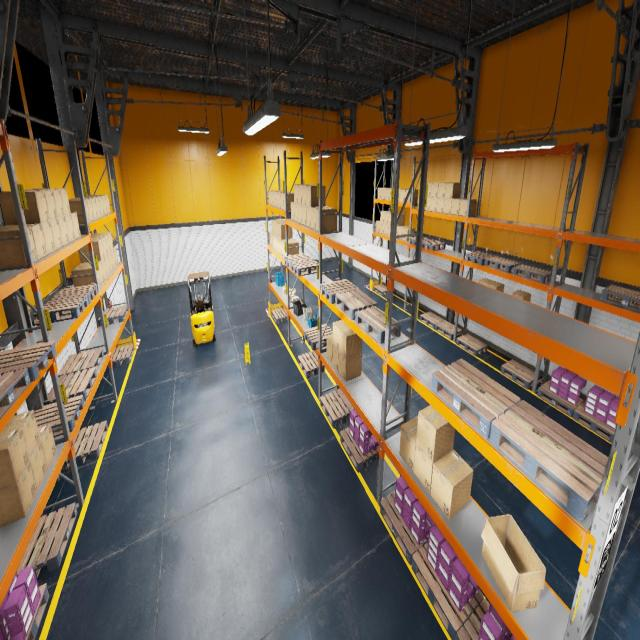box: (481, 514, 546, 612), (430, 449, 473, 520), (0, 461, 37, 527), (416, 406, 455, 462), (1, 410, 40, 460), (414, 443, 452, 494), (0, 428, 29, 489), (0, 223, 47, 260), (0, 190, 49, 225), (0, 226, 37, 268), (24, 189, 64, 218), (399, 415, 418, 472), (24, 190, 58, 220), (36, 188, 71, 216), (30, 442, 47, 492), (38, 424, 56, 470), (339, 327, 362, 359), (338, 351, 362, 381), (71, 265, 100, 287), (77, 261, 104, 284), (71, 198, 98, 220), (79, 239, 104, 262), (68, 199, 94, 221), (69, 200, 90, 224), (316, 208, 337, 232), (77, 197, 101, 217), (333, 320, 348, 351), (41, 221, 55, 254), (92, 232, 114, 252), (311, 206, 329, 230), (84, 196, 105, 216), (306, 185, 325, 207), (87, 195, 108, 214), (50, 218, 62, 250), (90, 194, 110, 213), (92, 234, 110, 254), (91, 237, 108, 257), (58, 216, 69, 246), (459, 199, 477, 216), (302, 185, 316, 206), (451, 198, 468, 215), (65, 214, 75, 242), (298, 184, 312, 204), (445, 182, 461, 198), (71, 212, 80, 239), (284, 240, 299, 256), (511, 290, 531, 302), (281, 239, 295, 256), (278, 223, 292, 239), (280, 192, 293, 209), (278, 192, 291, 208), (275, 191, 288, 207), (283, 192, 294, 210), (332, 344, 339, 372), (294, 184, 304, 203), (402, 227, 415, 241), (271, 219, 283, 234), (486, 281, 504, 291), (405, 189, 418, 202), (271, 190, 281, 206), (274, 220, 284, 236), (397, 226, 409, 239), (101, 258, 108, 280), (427, 182, 438, 196), (273, 191, 283, 206), (276, 222, 285, 238), (443, 198, 452, 214), (327, 335, 332, 363), (269, 190, 279, 204), (377, 187, 388, 199), (380, 210, 390, 223), (436, 197, 444, 213), (438, 182, 446, 198), (477, 278, 494, 285), (430, 196, 437, 212), (306, 206, 311, 228), (389, 213, 399, 224), (397, 213, 405, 226), (398, 188, 406, 201), (105, 255, 110, 275), (108, 252, 113, 272), (400, 188, 407, 202), (431, 182, 438, 196), (113, 247, 118, 266), (111, 250, 116, 268), (302, 205, 306, 226), (298, 204, 302, 224), (424, 197, 430, 210), (294, 203, 298, 222), (384, 212, 390, 224), (386, 188, 391, 200), (289, 288, 296, 296), (381, 188, 386, 199), (291, 202, 294, 220), (276, 236, 279, 252), (384, 223, 388, 235), (380, 222, 384, 234), (376, 220, 380, 232), (292, 296, 298, 302), (283, 287, 289, 293), (279, 238, 281, 254), (274, 234, 276, 250), (272, 234, 274, 248), (270, 232, 272, 246), (290, 294, 294, 300), (417, 196, 419, 208), (388, 225, 390, 235), (390, 188, 391, 200), (397, 226, 398, 235)
forklift: (188, 271, 215, 347)
pallets: (489, 400, 608, 522), (431, 358, 520, 438), (412, 542, 484, 640), (16, 502, 77, 578), (380, 490, 428, 564), (61, 420, 108, 472), (0, 341, 57, 382), (34, 394, 84, 436), (43, 367, 97, 405), (32, 294, 89, 326), (573, 400, 615, 442), (340, 427, 379, 472), (355, 306, 401, 344), (537, 381, 583, 417), (0, 368, 30, 419), (456, 598, 489, 639), (26, 583, 49, 640), (58, 348, 103, 377), (320, 389, 353, 428), (335, 290, 377, 320), (500, 360, 540, 389), (600, 285, 640, 311), (320, 279, 359, 304), (49, 284, 98, 303), (512, 264, 552, 284), (304, 324, 332, 350), (106, 344, 134, 369), (457, 334, 488, 356), (298, 351, 324, 377), (484, 256, 522, 273), (98, 305, 128, 326), (435, 320, 462, 340), (290, 259, 318, 276), (465, 251, 496, 265), (420, 312, 445, 329), (284, 254, 311, 268), (271, 308, 290, 324), (422, 239, 446, 251), (408, 237, 432, 245), (373, 284, 387, 296)
